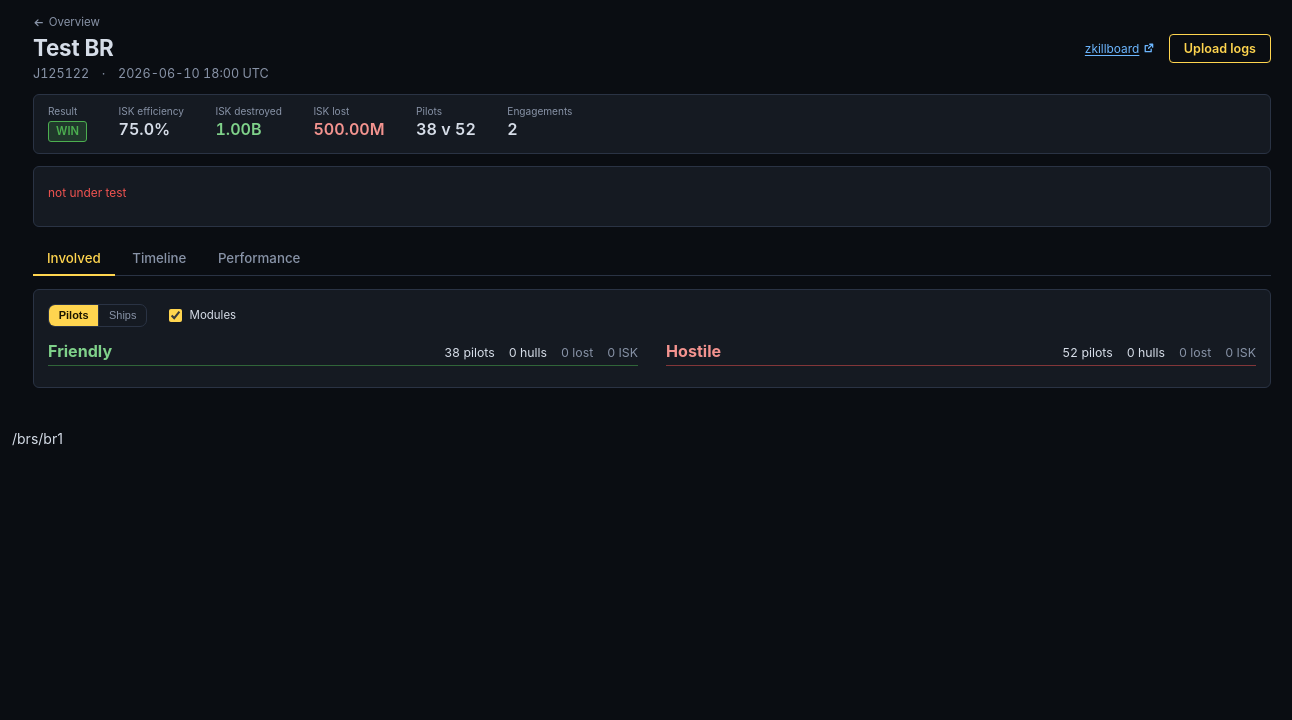
Test: BrDetailPage › tabs › switches tab from the tab bar and updates the URL
Step 1. Click the link with test id "tab-performance" → click(259, 258), box [218,250,300,266]
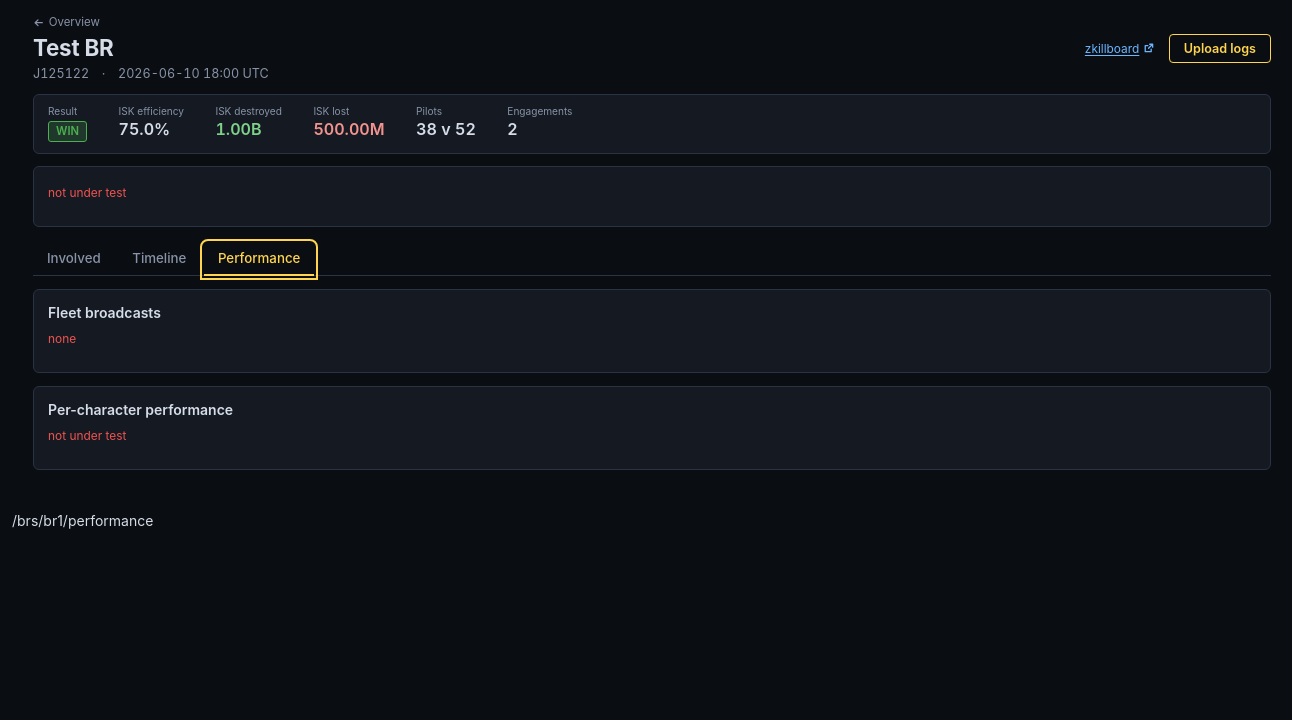
Result: the element with test id "performance-tab" is shown at [33,289,1271,470]
Result: the text with test id "where" reads "/brs/br1/performance" at [12,512,153,529]
